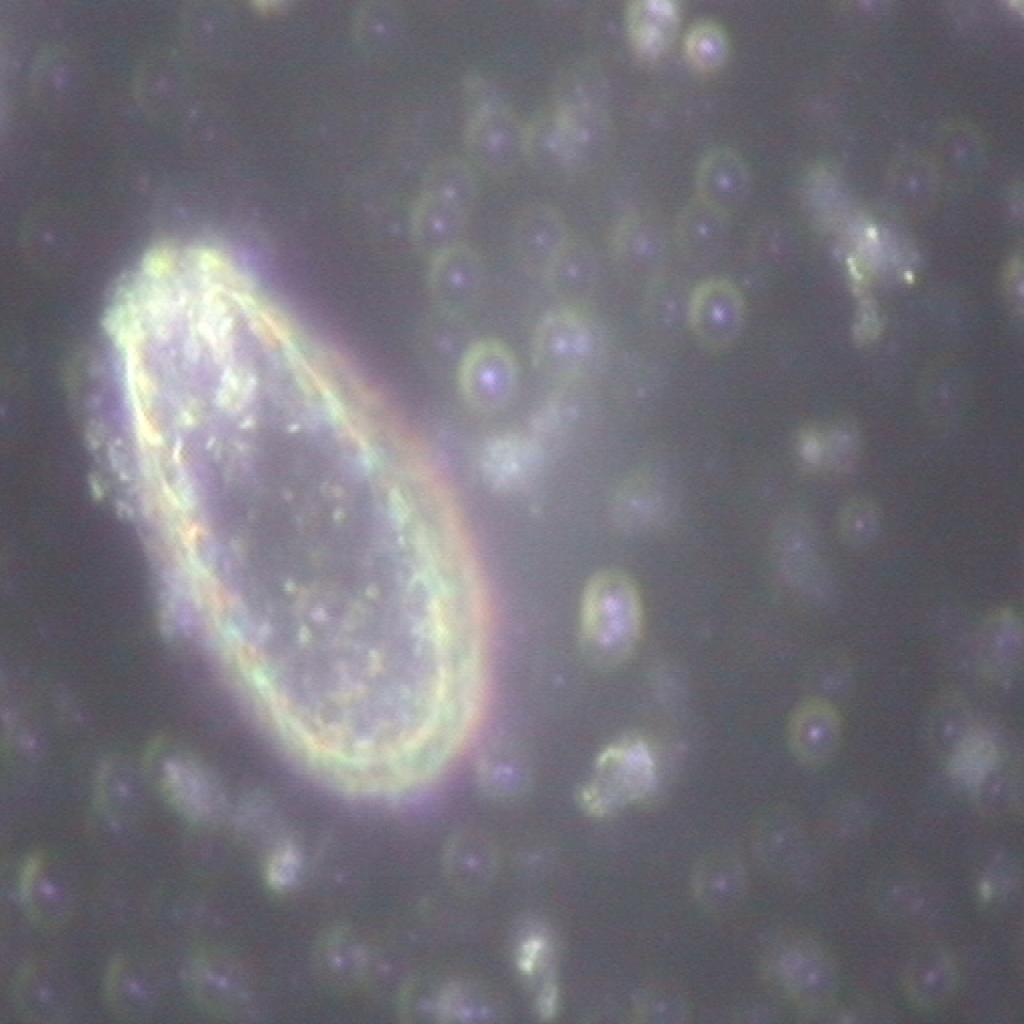Euglypha: (86, 211, 496, 826)
